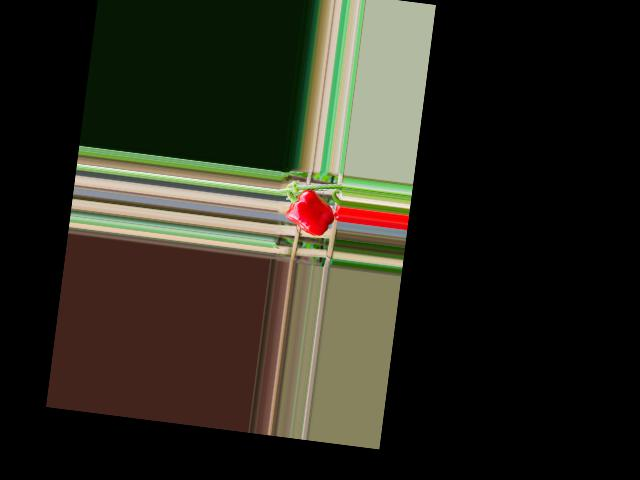bell_pepper: (283, 183, 337, 240)
